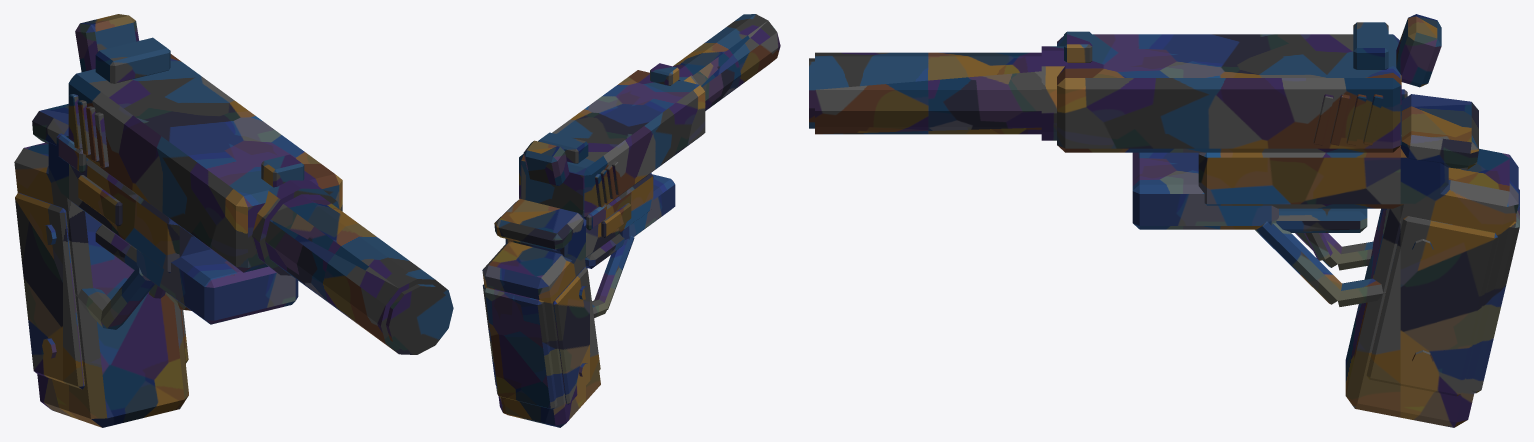
Rendered from SuppressedPistol_HardenedSteel.glb.
3 views of the same model, side by side, from view 1: azimuth 30°, elevation 25°; view 2: azimuth 150°, elevation 25°; view 3: azimuth 270°, elevation 25° (orthographic). The views are drawn at different scales.
Visible parts, largest first — view 1: FTF_Weapon_SuppressedPistol_Black_M1911Style_Mesh; view 2: FTF_Weapon_SuppressedPistol_Black_M1911Style_Mesh; view 3: FTF_Weapon_SuppressedPistol_Black_M1911Style_Mesh.
Boxes of the visible parts, x1,y1,x2,y2 form: FTF_Weapon_SuppressedPistol_Black_M1911Style_Mesh: (14, 14, 453, 427); FTF_Weapon_SuppressedPistol_Black_M1911Style_Mesh: (482, 14, 780, 427); FTF_Weapon_SuppressedPistol_Black_M1911Style_Mesh: (809, 14, 1519, 427).
Bounding box in the file's own units: 0.284 × 0.903 × 1.51.
1 material, 1 textured.
